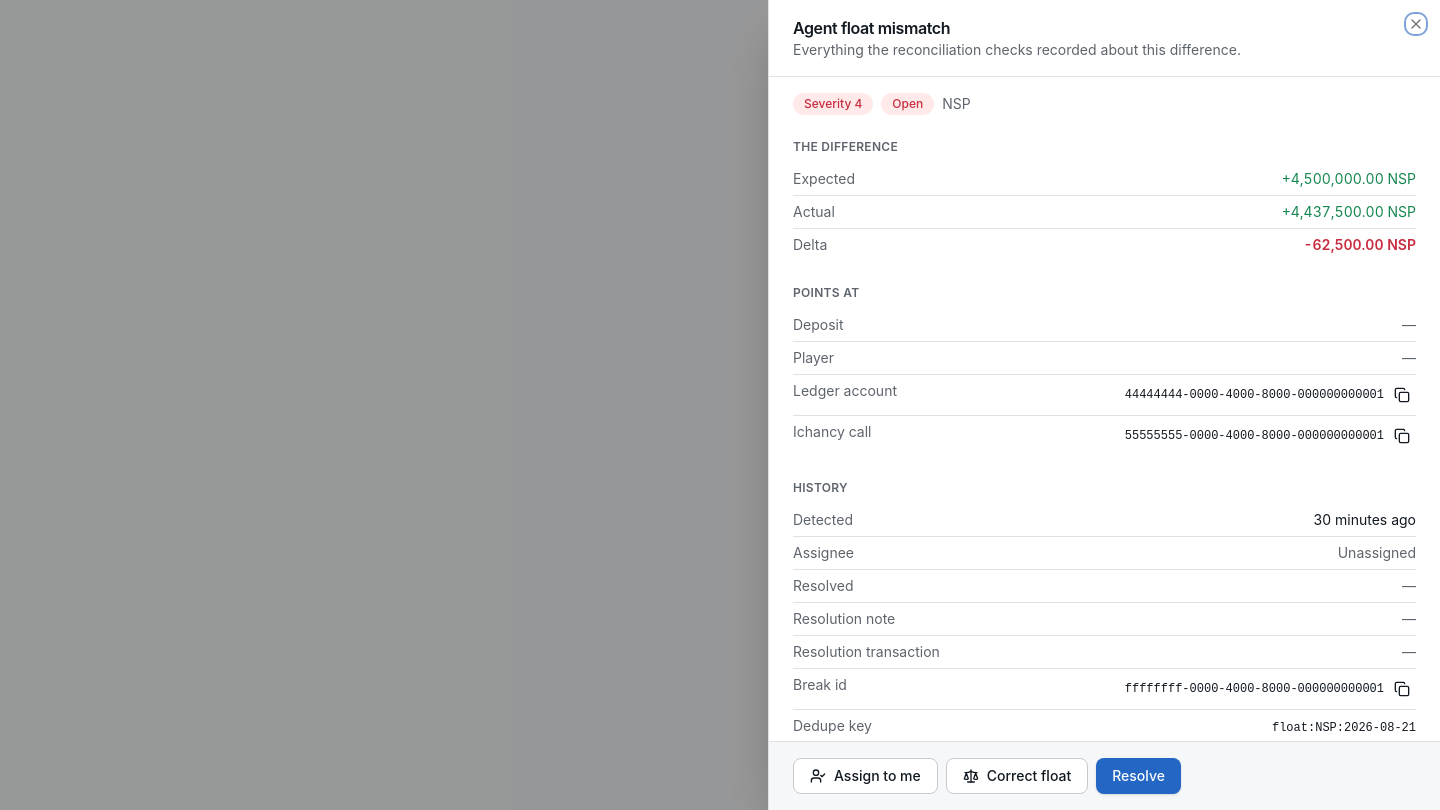
Test: BreakDetailSheet › reports a failed assignment instead of pretending it worked
The width and height of the screenshot is (1440, 810).
What coordinates should you click on to do the following:
click the button "Assign to me"
I would click on:
 (865, 776)
Its box is [793,758,938,794].
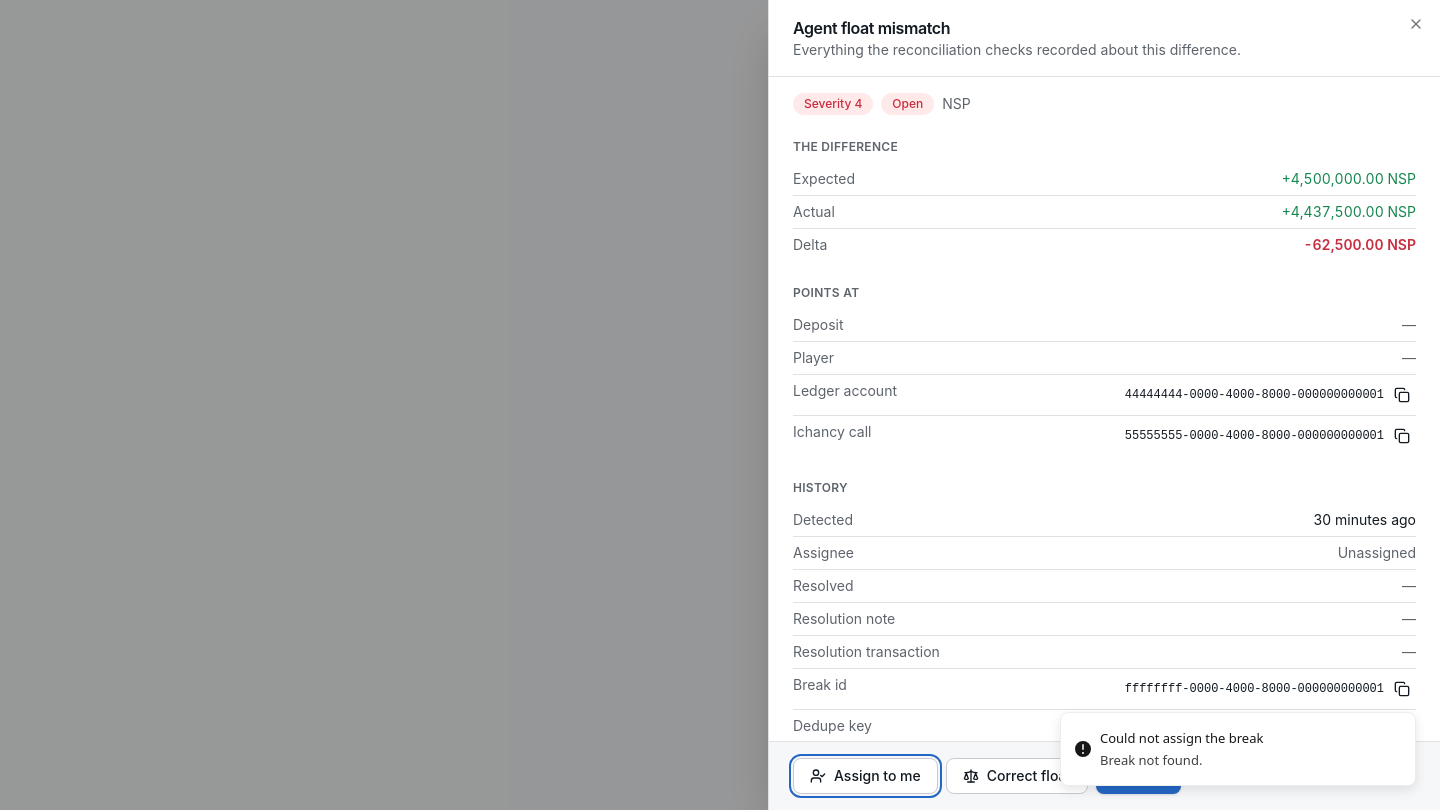
Expected: the text "Could not assign the break" is shown, [1100,729,1263,749]
